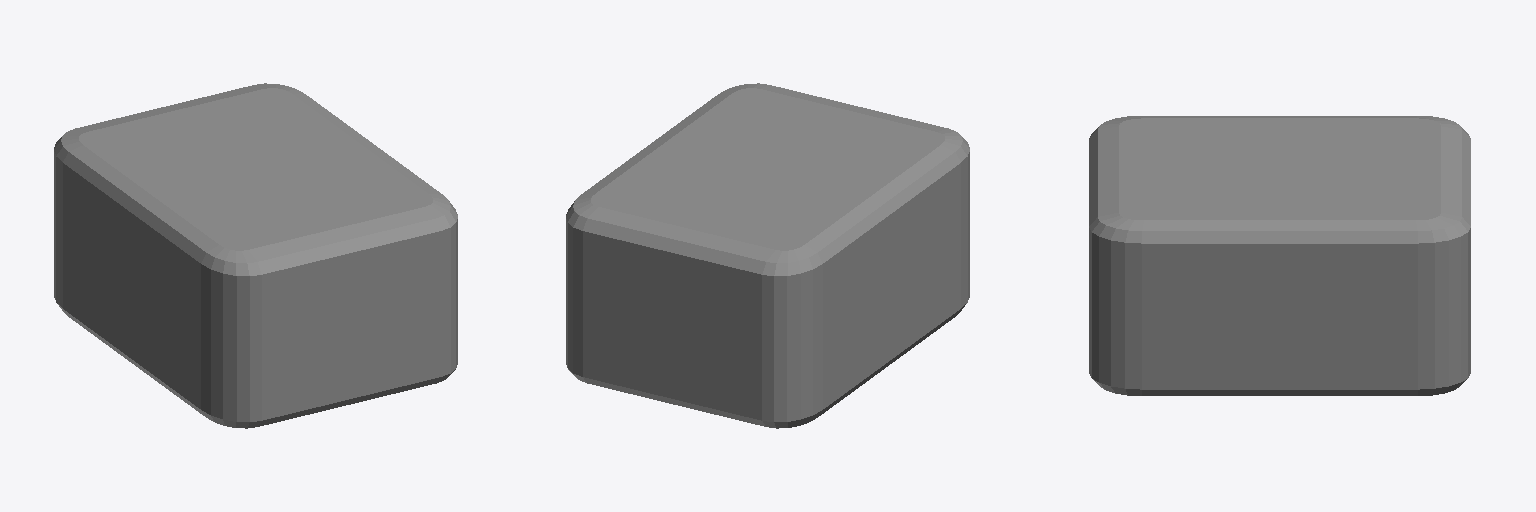
Rendered from kuka_arm_link_6_visuals_gripper_base_mesh.obj.
The picture shows the model from 3 angles: view 1: azimuth 30°, elevation 25°; view 2: azimuth 150°, elevation 25°; view 3: azimuth 270°, elevation 25°; orthographic projection.
Bounding box in the file's own units: 0.15 × 0.1 × 0.2.